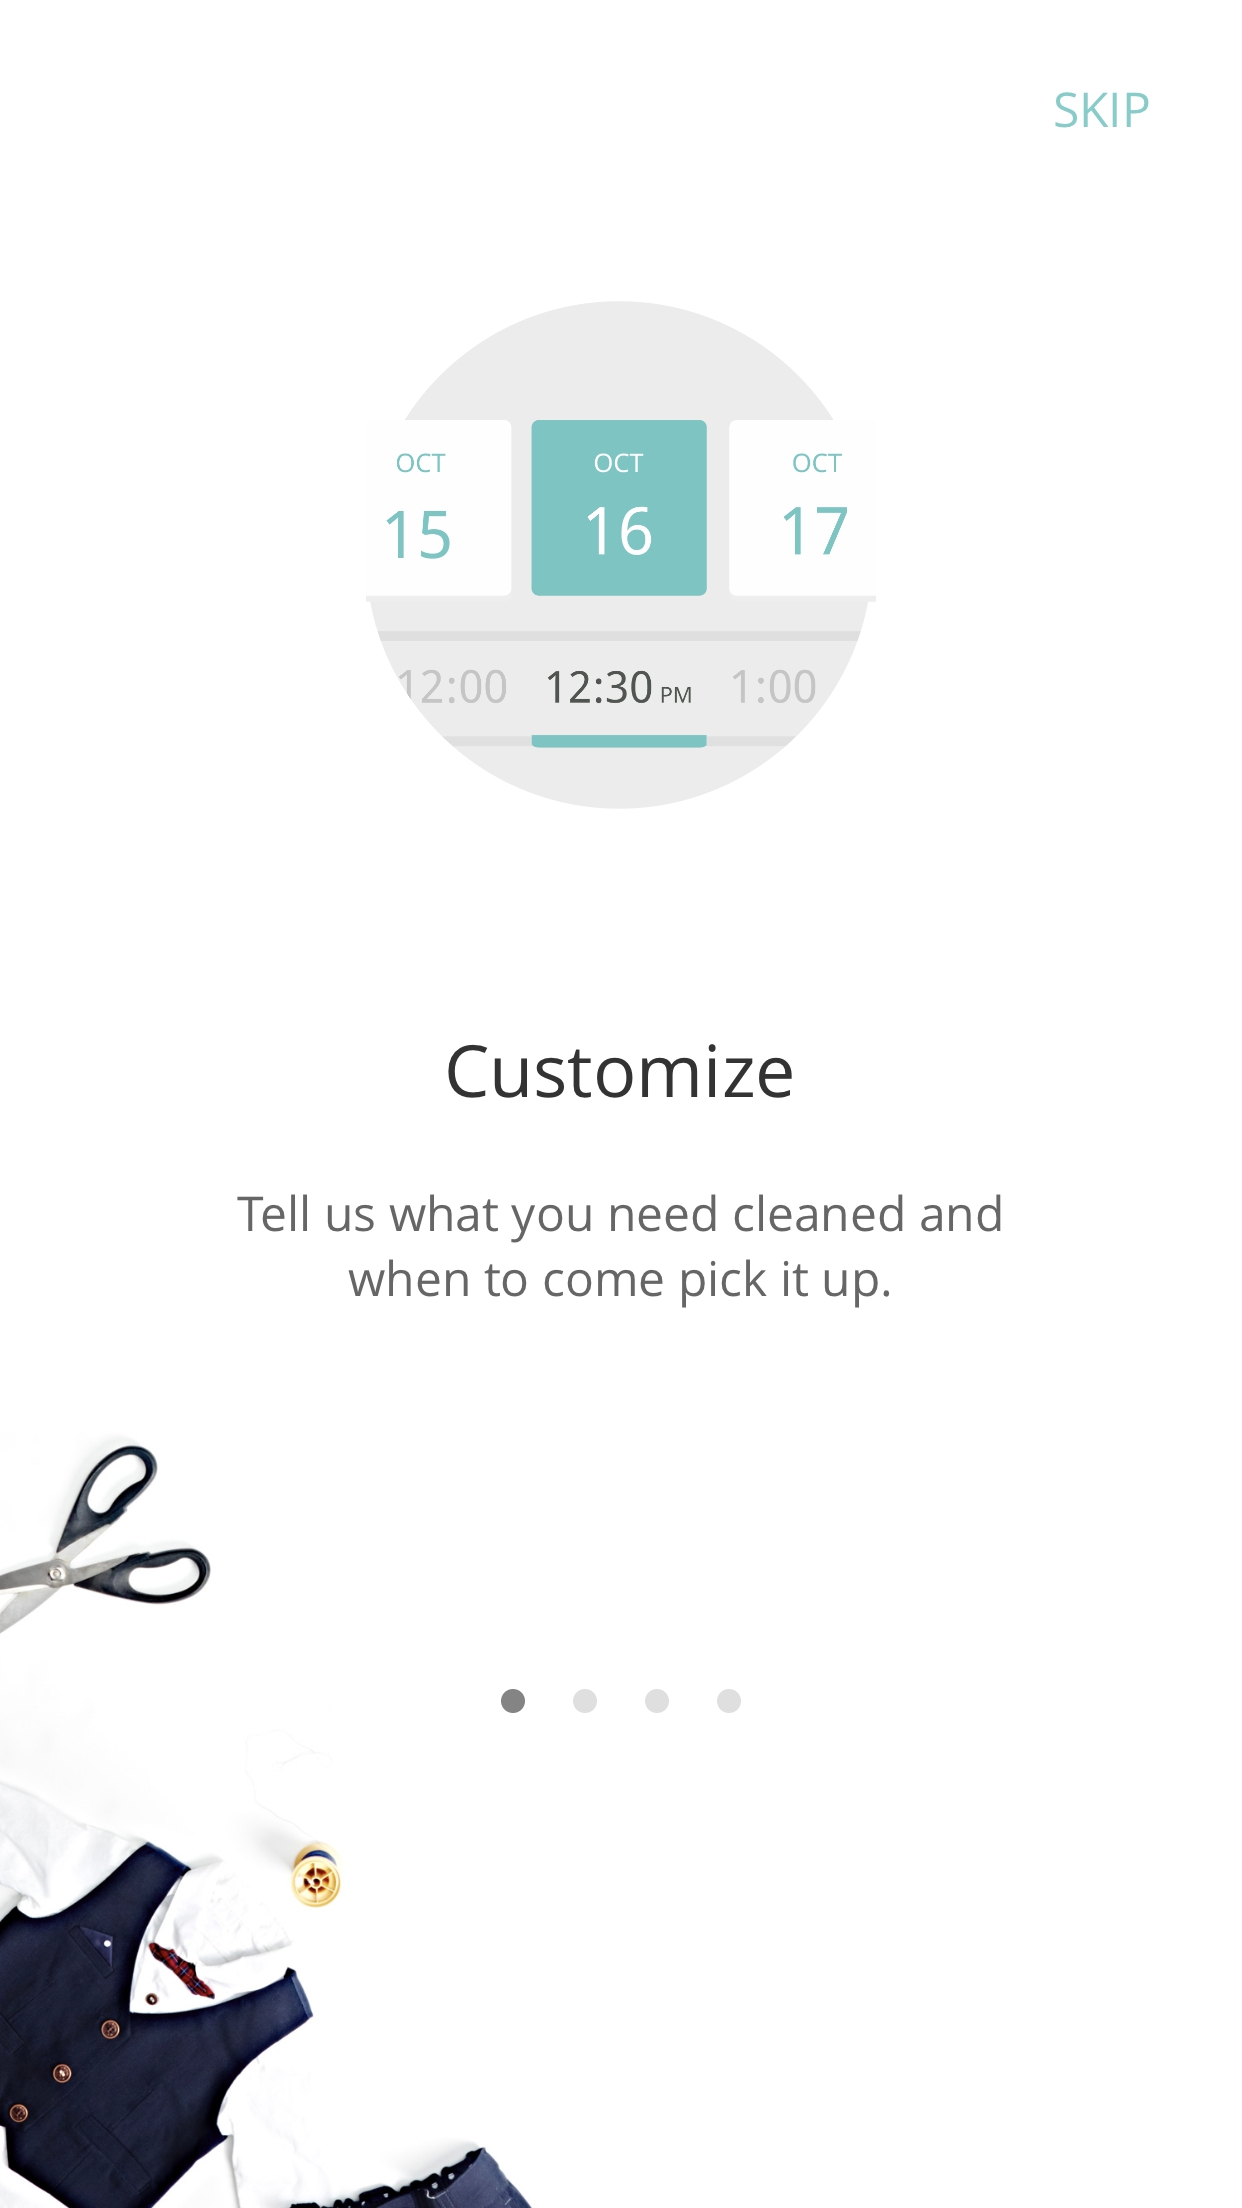Image: (365, 300, 878, 811), (2, 1727, 532, 2208), (2, 1444, 212, 1635)
PageIndicator: (500, 1686, 743, 1714)
Text: (237, 1193, 1002, 1309), (447, 1043, 793, 1099), (1055, 93, 1149, 129)
